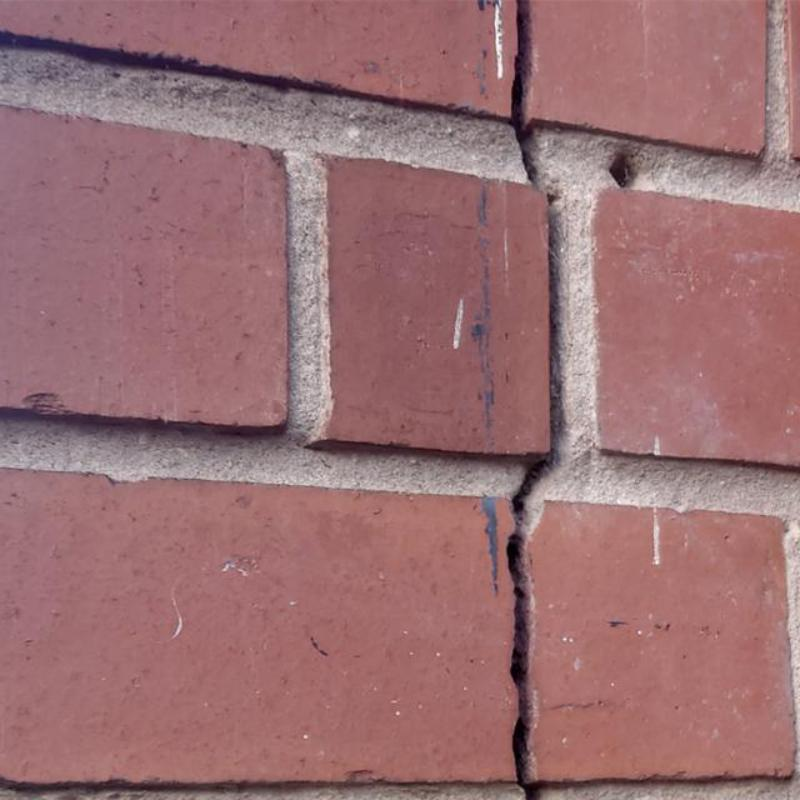pothole: (511, 0, 562, 799)
